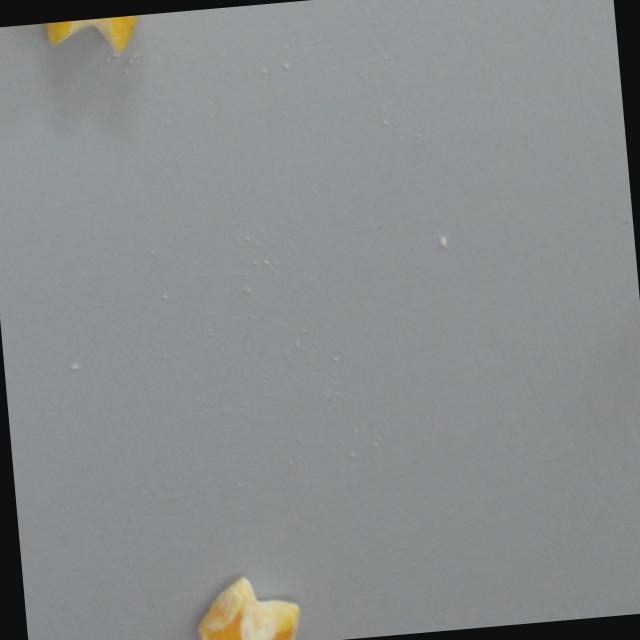no_canjicado: (41, 14, 148, 59)
pelicula: (191, 570, 303, 640)
